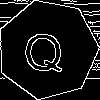Q: (22, 24, 64, 74)
